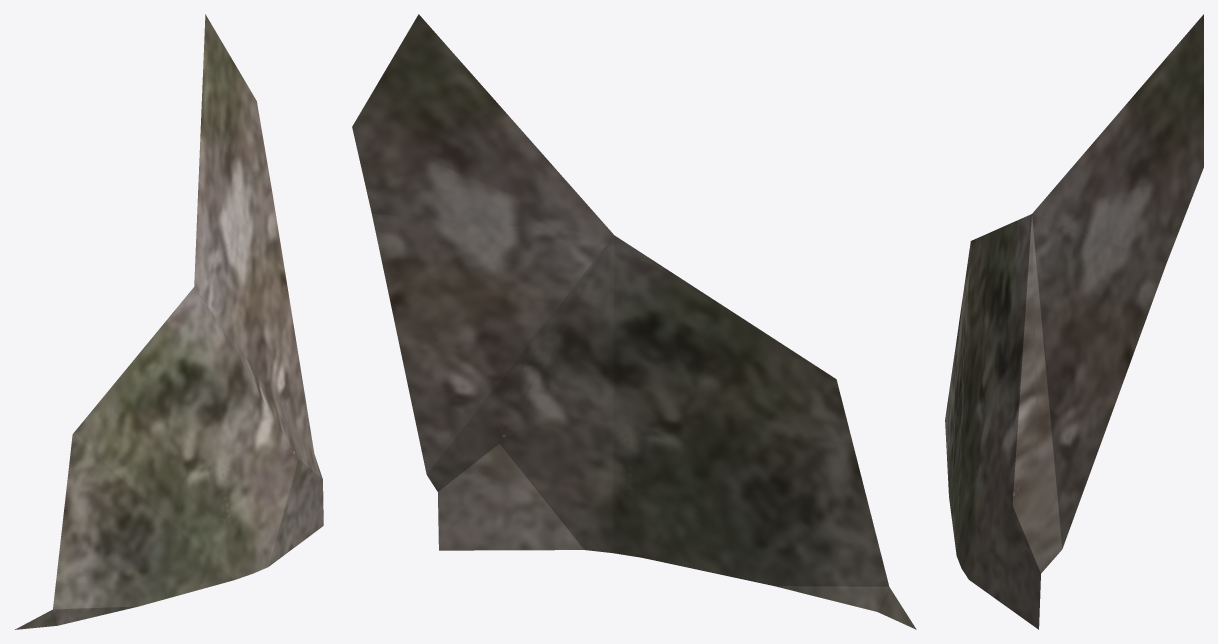
3 renders of one model, left to right at view 1: azimuth 30°, elevation 25°; view 2: azimuth 150°, elevation 25°; view 3: azimuth 270°, elevation 25°, orthographic. The views are drawn at different scales.
Size of the model in its own units: 4 by 5.36 by 2.15.
Materials: 1 (1 with a texture image).
